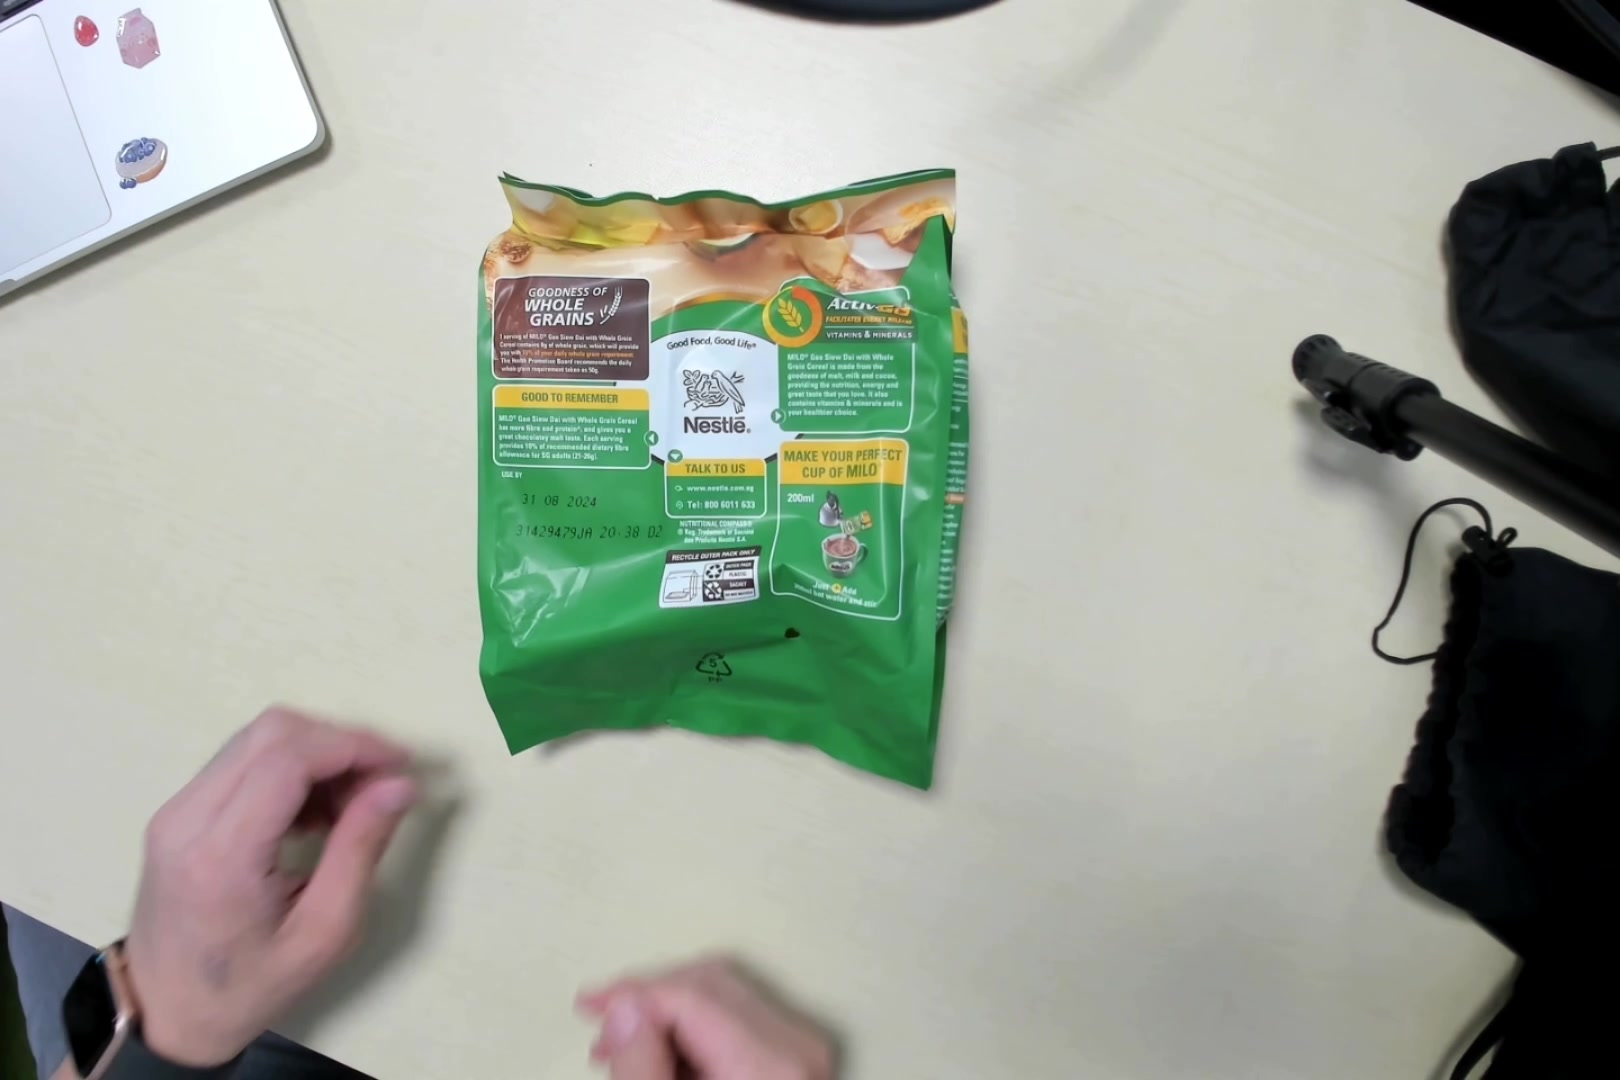ChocolateMaltPowder_300-399g_NonHalal_NonHealthy: (475, 158, 962, 785)
